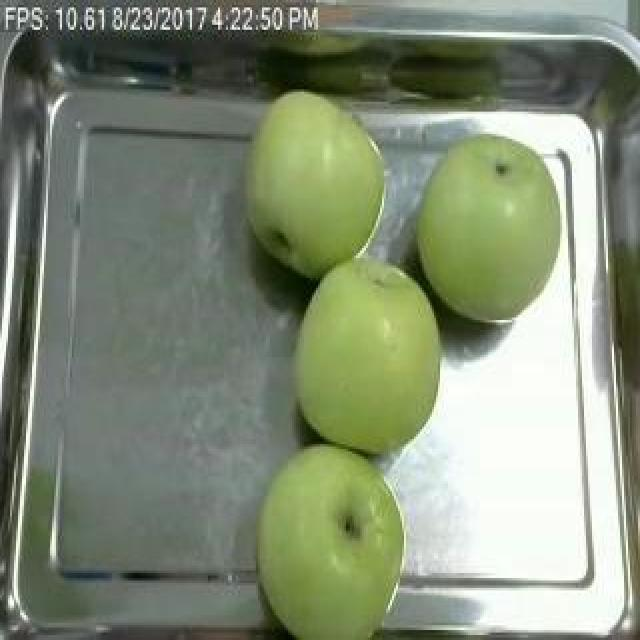Rotten Apple: (226, 439, 414, 633), (419, 120, 555, 354), (280, 258, 456, 437), (246, 86, 390, 279)
